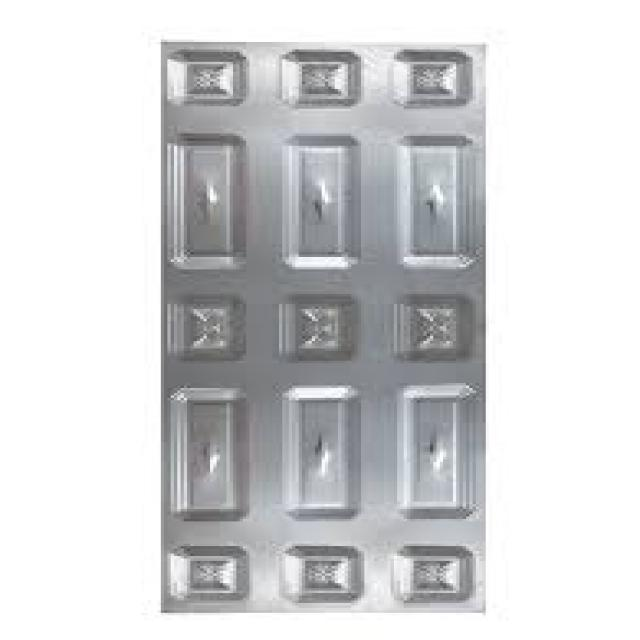door: (160, 41, 488, 614)
